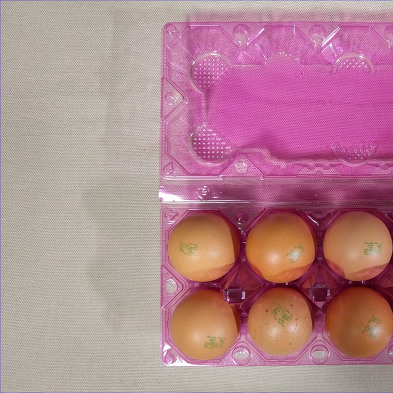egg: (167, 211, 391, 364)
